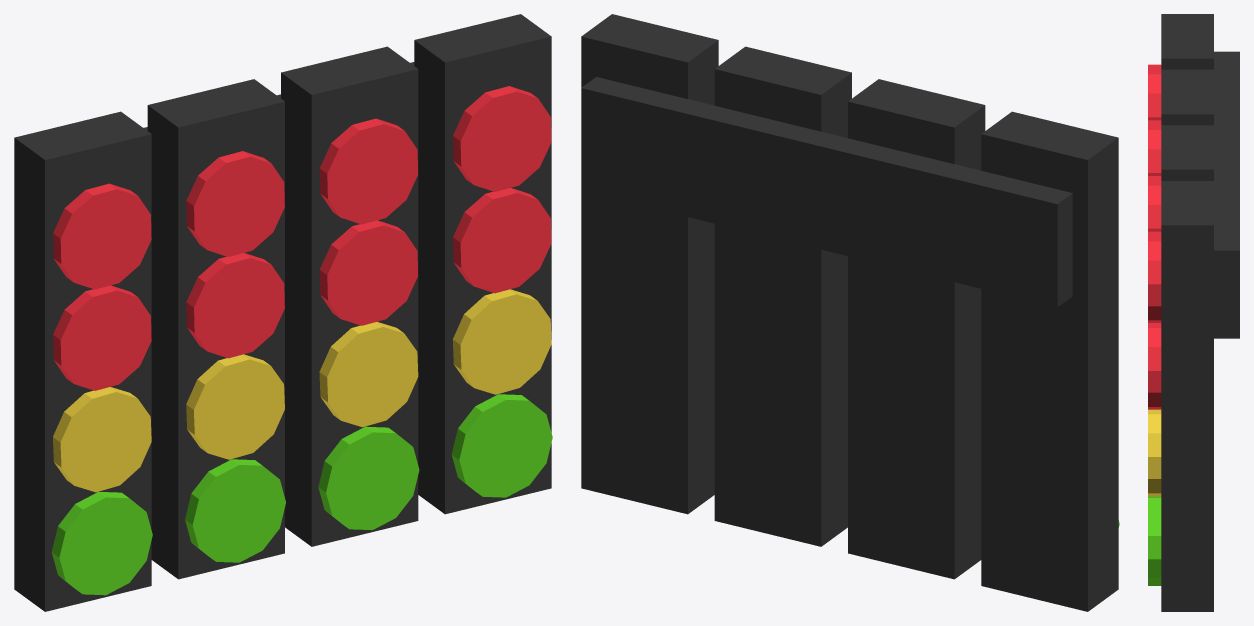
The model's file is start_Lights_NoPole.fbx.
3 renders of one model, left to right at view 1: azimuth 30°, elevation 25°; view 2: azimuth 150°, elevation 25°; view 3: azimuth 270°, elevation 25°, orthographic. The views are drawn at different scales.
Parts seen in each view (by area): view 1: Cylinder, Red_Lights, Yellow_Lights, Green_Lights; view 2: Cylinder; view 3: Cylinder, Red_Lights, Green_Lights, Yellow_Lights.
Boxes of the visible parts, x1,y1,x2,y2 form: Cylinder: [14, 14, 551, 611]; Red_Lights: [53, 86, 551, 390]; Yellow_Lights: [53, 289, 551, 492]; Green_Lights: [51, 394, 552, 595]; Cylinder: [581, 14, 1118, 611]; Cylinder: [1161, 14, 1239, 611]; Red_Lights: [1148, 64, 1161, 409]; Green_Lights: [1148, 496, 1161, 585]; Yellow_Lights: [1148, 409, 1161, 496].
Size of the model in its own units: 3.04 by 2.59 by 0.5581.
